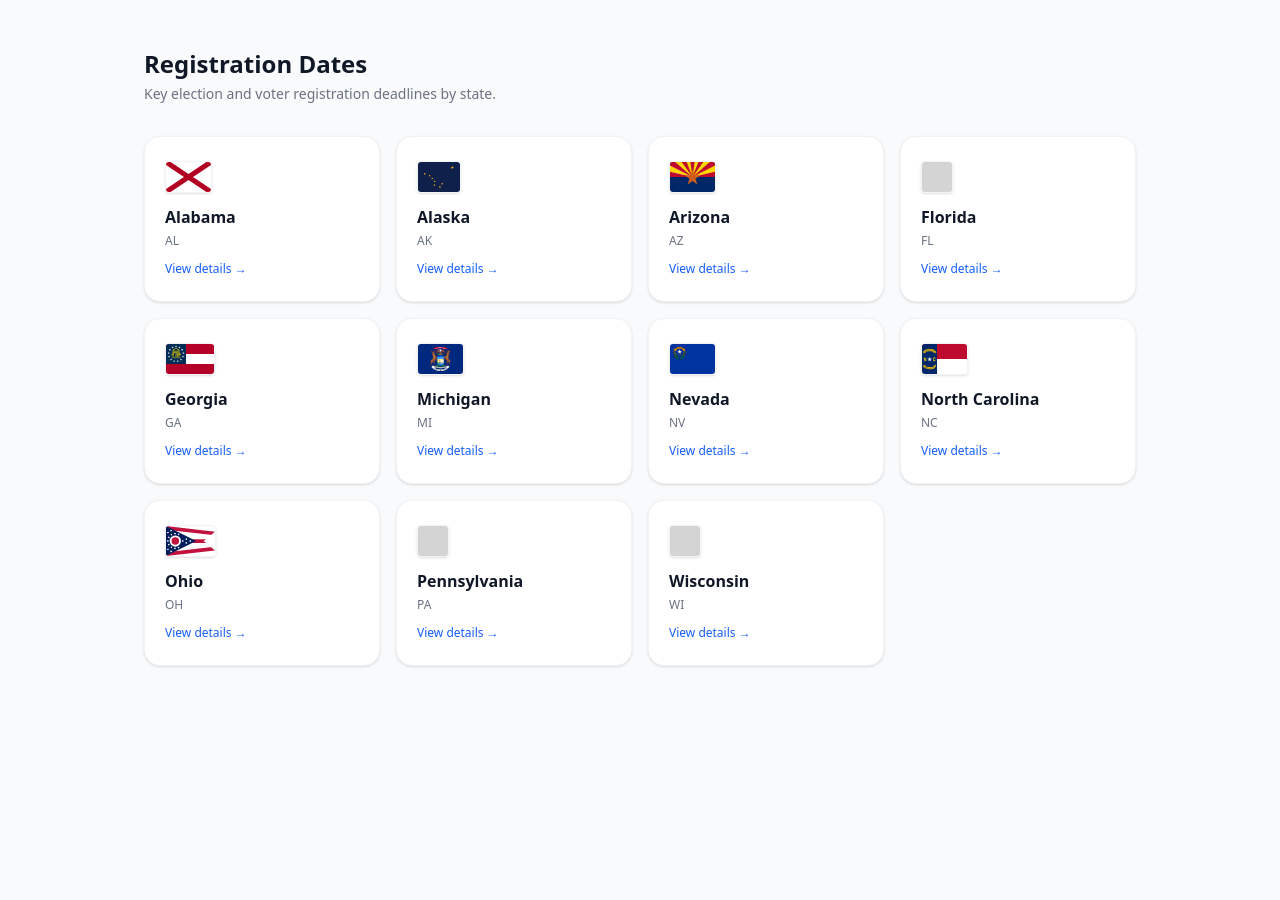
Test: RegistrationDatesPage › closes the modal
Click the text "Pennsylvania".
click(470, 581)  # box [417, 570, 523, 592]
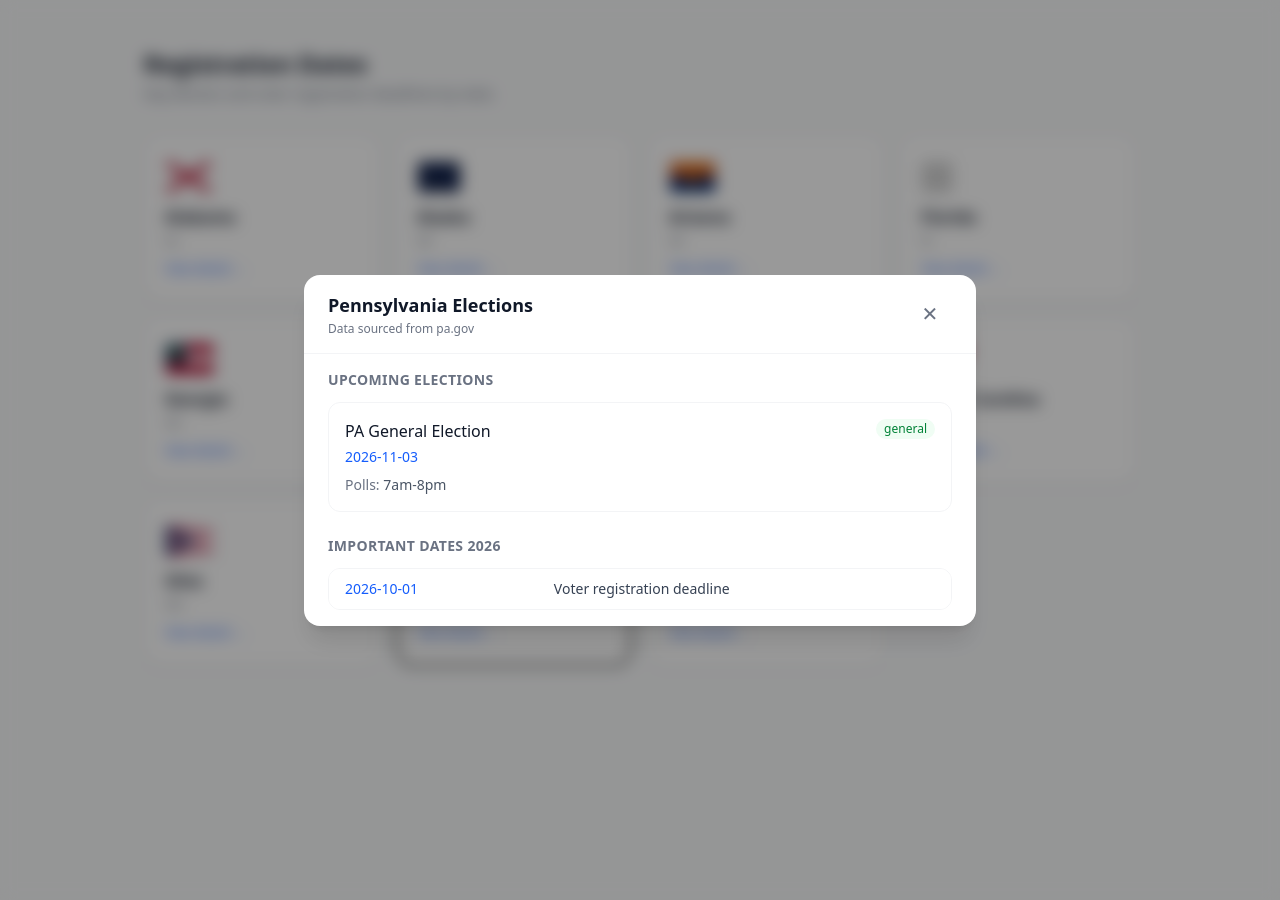
Result: the text "PA General Election" is shown at [345, 418, 491, 442]
Click the button named "Close".
click(930, 314)  # box [908, 292, 952, 336]
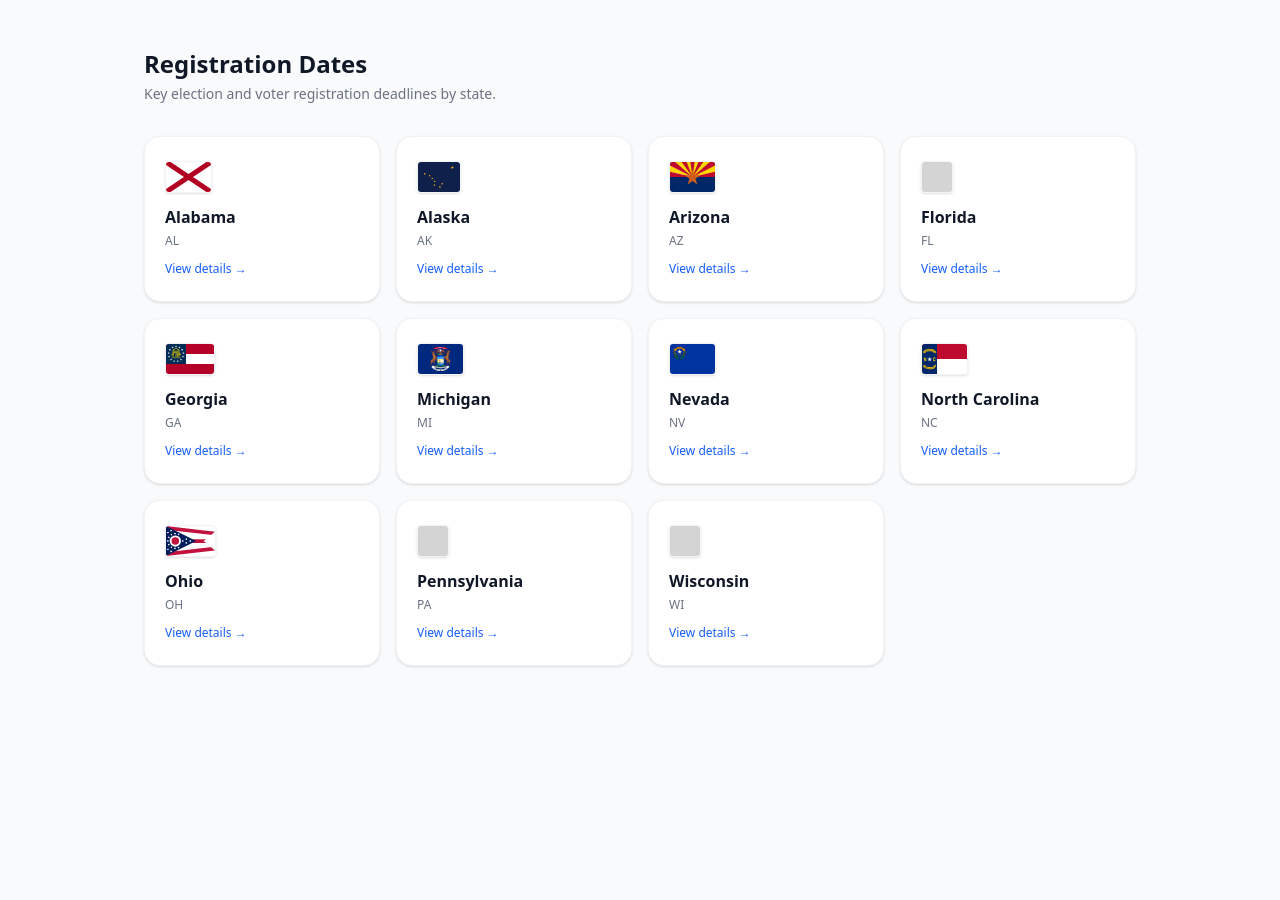
Result: the text "PA General Election" is gone
